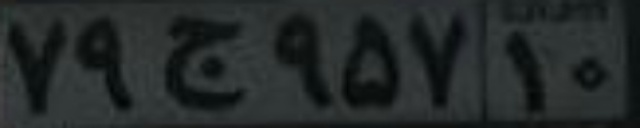0: (569, 56, 616, 92)
1: (501, 29, 550, 116)
5: (336, 14, 403, 110)
6: (2, 18, 68, 118)
7: (405, 8, 469, 110)
9: (73, 16, 136, 116), (270, 13, 332, 114)
jim: (157, 17, 251, 111)
